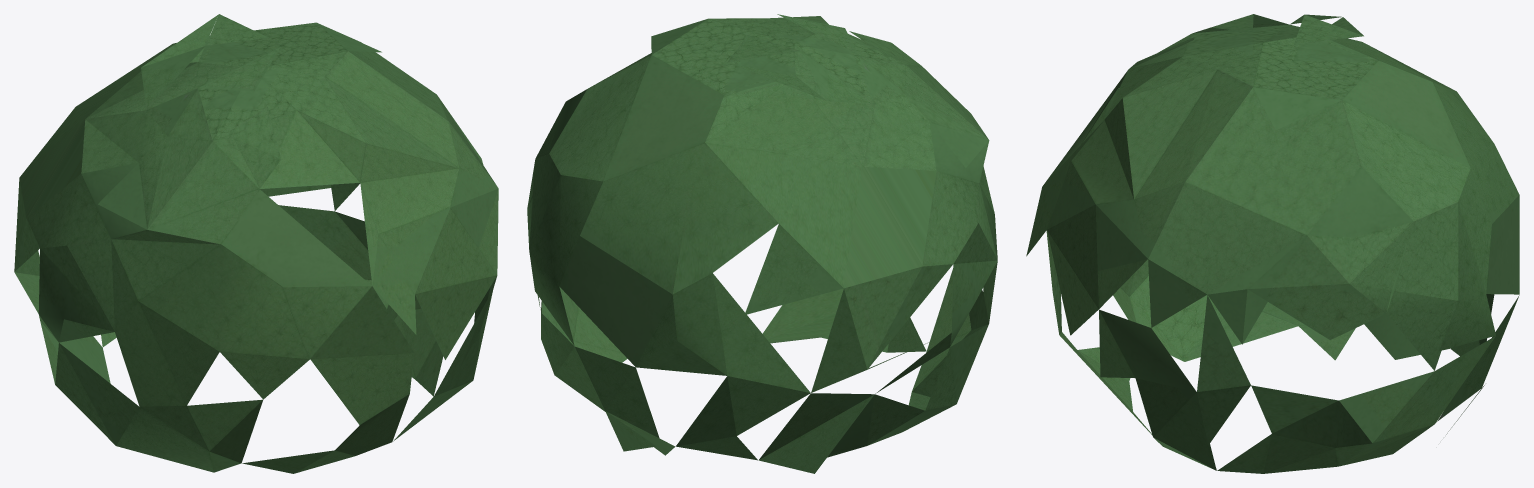
Rendered from hedge_section.glb.
3 renders of one model, left to right at view 1: azimuth 30°, elevation 25°; view 2: azimuth 150°, elevation 25°; view 3: azimuth 270°, elevation 25°, orthographic.
Size of the model in its own units: 1.72 by 1.53 by 1.77.
1 material, 1 textured.
